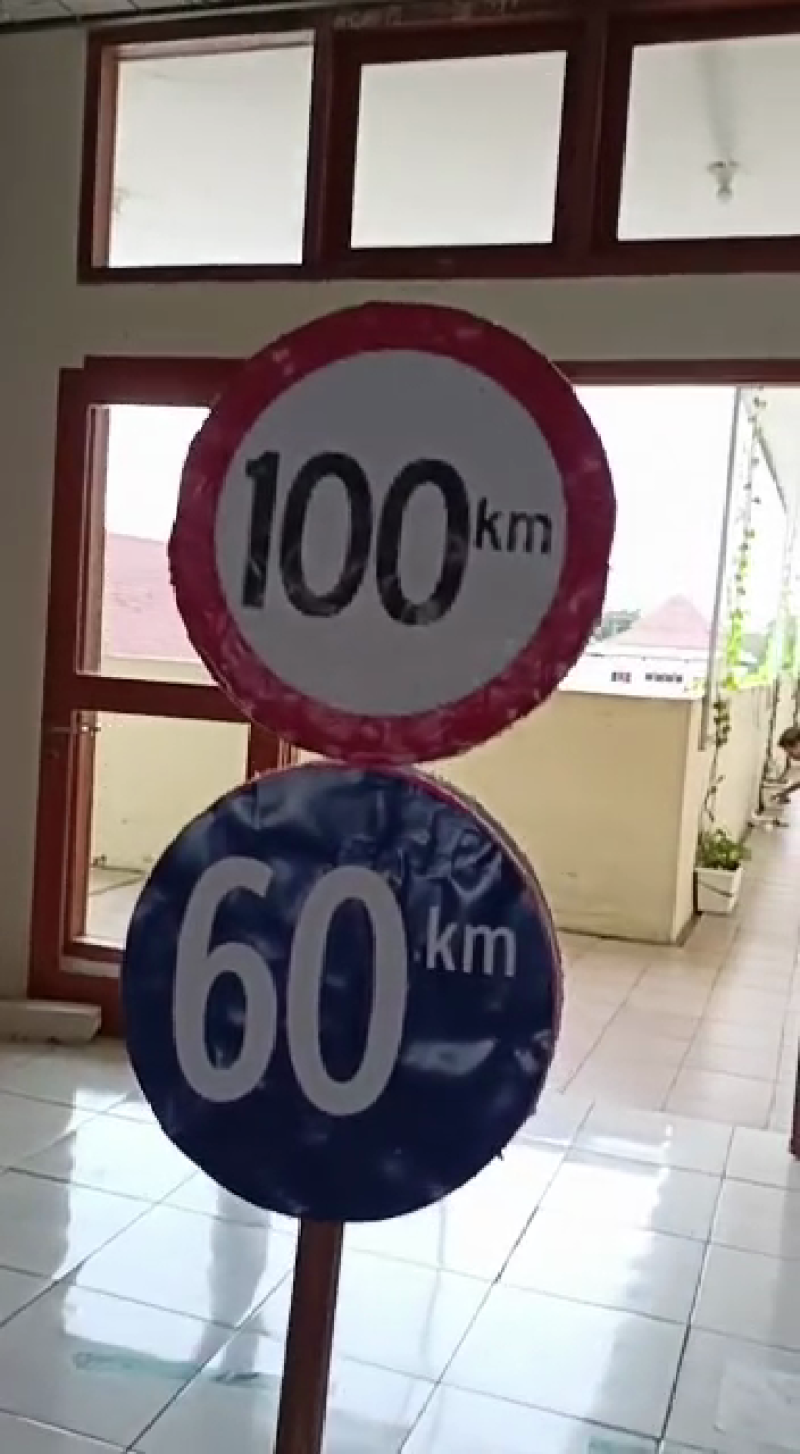batas maksimal 100kmperjam minimal 60kmperjam: (113, 287, 634, 1234)
